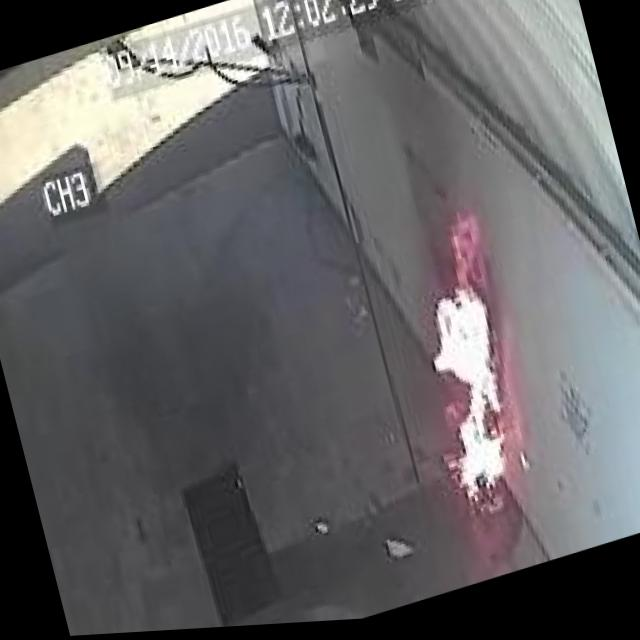fire: (388, 201, 550, 517)
